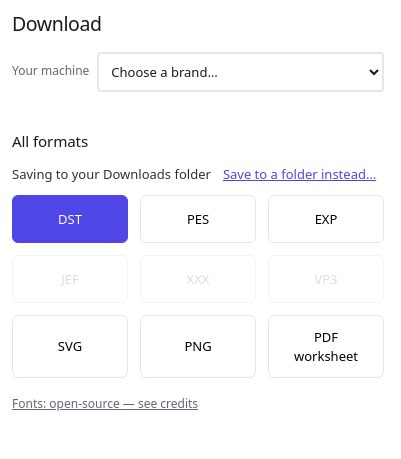
Test case: a service-encoded DST is not flagged after the download
Click the button "DST": click(70, 219) [12, 195, 128, 243]
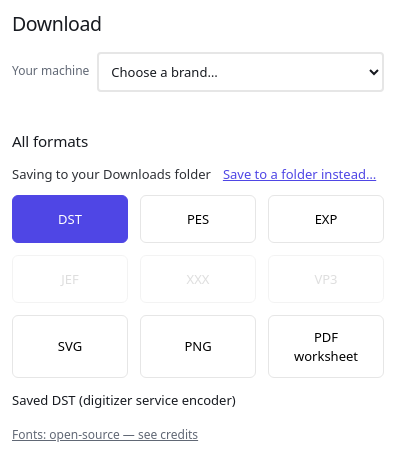
Result: the text "Saved DST (digitizer service encoder)" is shown at [12, 391, 236, 409]
